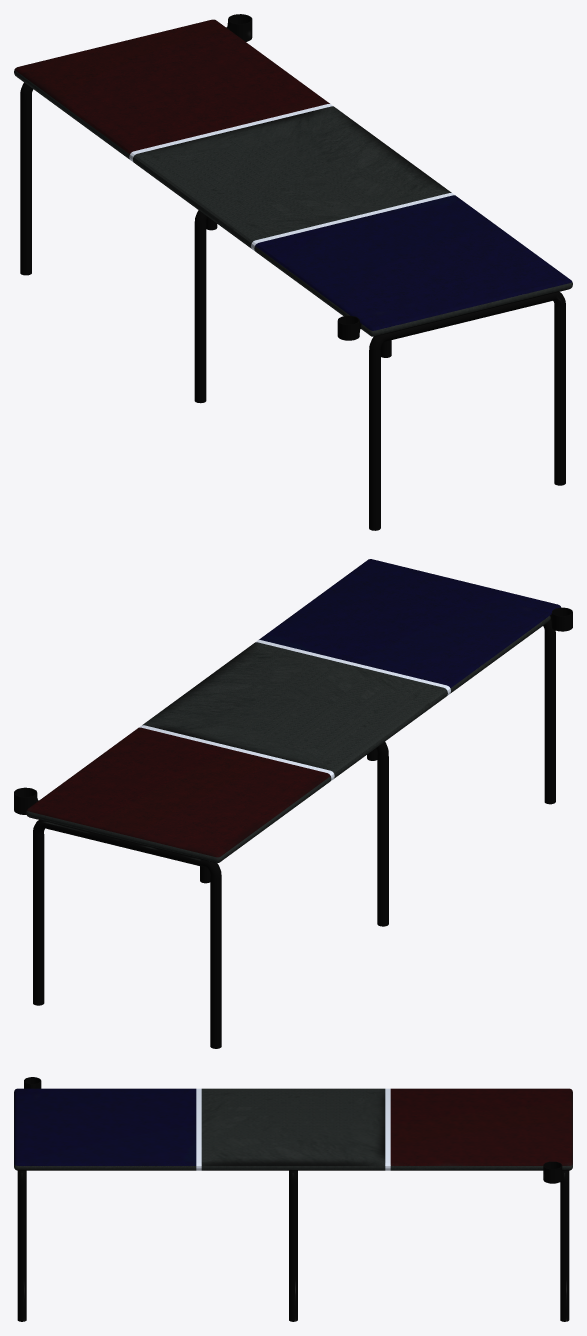
The model's file is BeerPongTableNew.fbx.
The picture shows the model from 3 angles, top to bottom: view 1: azimuth 30°, elevation 25°; view 2: azimuth 150°, elevation 25°; view 3: azimuth 270°, elevation 25°; orthographic projection. The views are drawn at different scales.
Visible parts, largest first — view 1: Cylinder.001; view 2: Cylinder.001; view 3: Cylinder.001.
Part boxes in pixels (x1,y1,x2,y2): Cylinder.001: (14, 14, 572, 530); Cylinder.001: (14, 559, 572, 1048); Cylinder.001: (14, 1077, 572, 1321).
Size of the model in its own units: 91.85 by 74.64 by 233.
